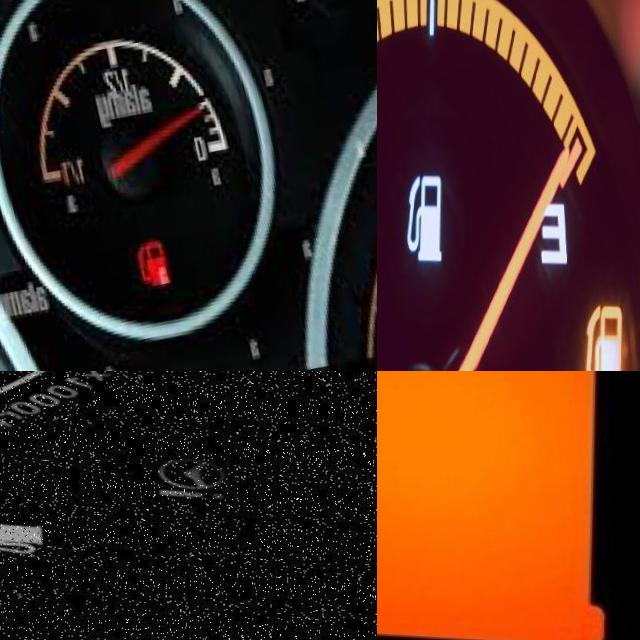Electronic Power Steering: (142, 439, 241, 517)
